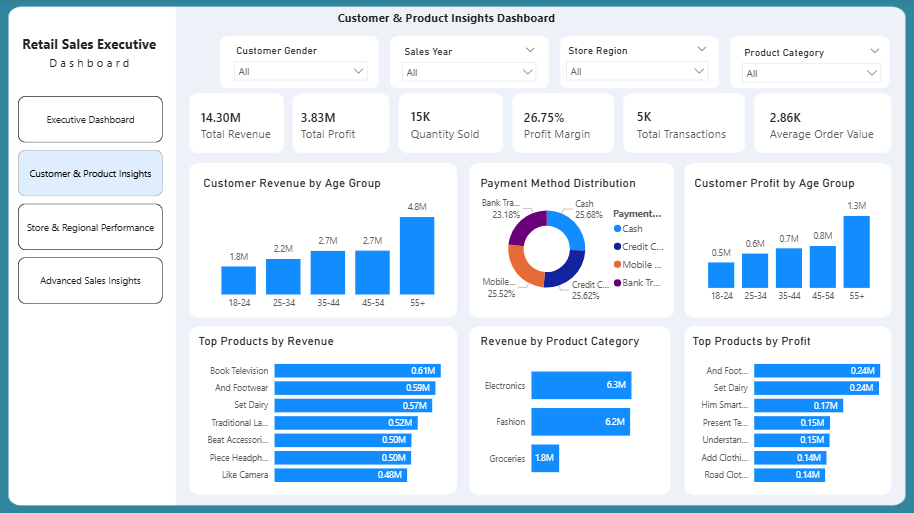

This screenshot's page, from the dashboard's own definition file:
{"tool":"powerbi","page":{"name":"Customer & Product Insights","canvas":[1280,720],"ordinal":1},"visuals":[{"type":"cardVisual","fields":{"Data":["retail_sales_view.Total Revenue"]},"box":[254,137.1,163.3,80.9],"z":0},{"type":"cardVisual","fields":{"Data":["retail_sales_view.Total Profit"]},"box":[393.5,137.1,143.7,80.9],"z":1000},{"type":"cardVisual","fields":{"Data":["retail_sales_view.Quantity Sold"]},"box":[547,134.3,166,83.7],"z":2000},{"type":"cardVisual","fields":{"Data":["retail_sales_view.Profit Margin"]},"box":[704.7,137.1,157.7,80.9],"z":3000},{"type":"cardVisual","fields":{"Data":["retail_sales_view.Total Transactions"]},"box":[862.3,134.3,185.6,83.7],"z":4000},{"type":"cardVisual","fields":{"Data":["retail_sales_view.Average Order Value"]},"box":[1047.9,137.1,206.5,80.9],"z":5000},{"type":"slicer","fields":{"Values":["retail_sales_view.Date.Variation.Date Hierarchy.Year"]},"box":[553.8,61,207.5,58],"z":6000},{"type":"slicer","fields":{"Values":["retail_sales_view.Category"]},"box":[1028.3,62.6,213.6,62.6],"z":7000},{"type":"slicer","fields":{"Values":["retail_sales_view.Region"]},"box":[782.6,59.5,218.2,67.1],"z":8000},{"type":"slicer","fields":{"Values":["retail_sales_view.Gender"]},"box":[318.9,59.5,206,62.6],"z":9000},{"type":"textbox","box":[21.6,46.1,213.1,72],"z":10000},{"type":"textbox","box":[446.4,11.5,358.6,38.9],"z":11000},{"type":"clusteredColumnChart","title":"Customer Revenue by Age Group","fields":{"Y":["retail_sales_view.Total Revenue"],"Category":["retail_sales_view.Age Group"]},"box":[281.9,248.4,358.6,195.3],"z":12000},{"type":"clusteredColumnChart","title":"Customer Profit by Age Group","fields":{"Category":["retail_sales_view.Age Group"],"Y":["retail_sales_view.Total Profit"]},"box":[967.2,248.7,274.6,186.1],"z":13000},{"type":"donutChart","title":"Payment Method Distribution","fields":{"Category":["retail_sales_view.PaymentMethod"],"Y":["retail_sales_view.Total Transactions"]},"box":[668.2,248.7,274.6,184.6],"z":14000},{"type":"pageNavigator","box":[27.5,137.3,202.9,292.9],"z":15000},{"type":"barChart","title":"Top Products by Revenue","fields":{"Category":["retail_sales_view.ProductName"],"Y":["retail_sales_view.Total Revenue"]},"box":[275.5,468.7,393.1,221.7],"z":16000},{"type":"clusteredBarChart","title":"Top Products by Profit","fields":{"Category":["retail_sales_view.ProductName"],"Y":["retail_sales_view.Total Profit"]},"box":[964.2,468.7,312.4,221.7],"z":17000},{"type":"clusteredBarChart","title":"Revenue by Product Category","fields":{"Category":["retail_sales_view.Category"],"Y":["retail_sales_view.Total Revenue"]},"box":[668.2,469.4,260.6,220.3],"z":18000}]}

Visuals, with their boxes in screenshot pixels (x1, y1, x2, y2), scaled from the page's 1280x720 canvas onto the 914x513 screenshot:
cardVisual - retail_sales_view.Total Revenue: <region>181, 98, 298, 155</region>
cardVisual - retail_sales_view.Total Profit: <region>281, 98, 384, 155</region>
cardVisual - retail_sales_view.Quantity Sold: <region>391, 96, 509, 155</region>
cardVisual - retail_sales_view.Profit Margin: <region>503, 98, 616, 155</region>
cardVisual - retail_sales_view.Total Transactions: <region>616, 96, 748, 155</region>
cardVisual - retail_sales_view.Average Order Value: <region>748, 98, 896, 155</region>
slicer - retail_sales_view.Date.Variation.Date Hierarchy.Year: <region>395, 43, 544, 85</region>
slicer - retail_sales_view.Category: <region>734, 45, 887, 89</region>
slicer - retail_sales_view.Region: <region>559, 42, 715, 90</region>
slicer - retail_sales_view.Gender: <region>228, 42, 375, 87</region>
textbox: <region>15, 33, 168, 84</region>
textbox: <region>319, 8, 575, 36</region>
"Customer Revenue by Age Group" clusteredColumnChart: <region>201, 177, 457, 316</region>
"Customer Profit by Age Group" clusteredColumnChart: <region>691, 177, 887, 310</region>
"Payment Method Distribution" donutChart: <region>477, 177, 673, 309</region>
pageNavigator: <region>20, 98, 165, 307</region>
"Top Products by Revenue" barChart: <region>197, 334, 477, 492</region>
"Top Products by Profit" clusteredBarChart: <region>688, 334, 912, 492</region>
"Revenue by Product Category" clusteredBarChart: <region>477, 334, 663, 491</region>
